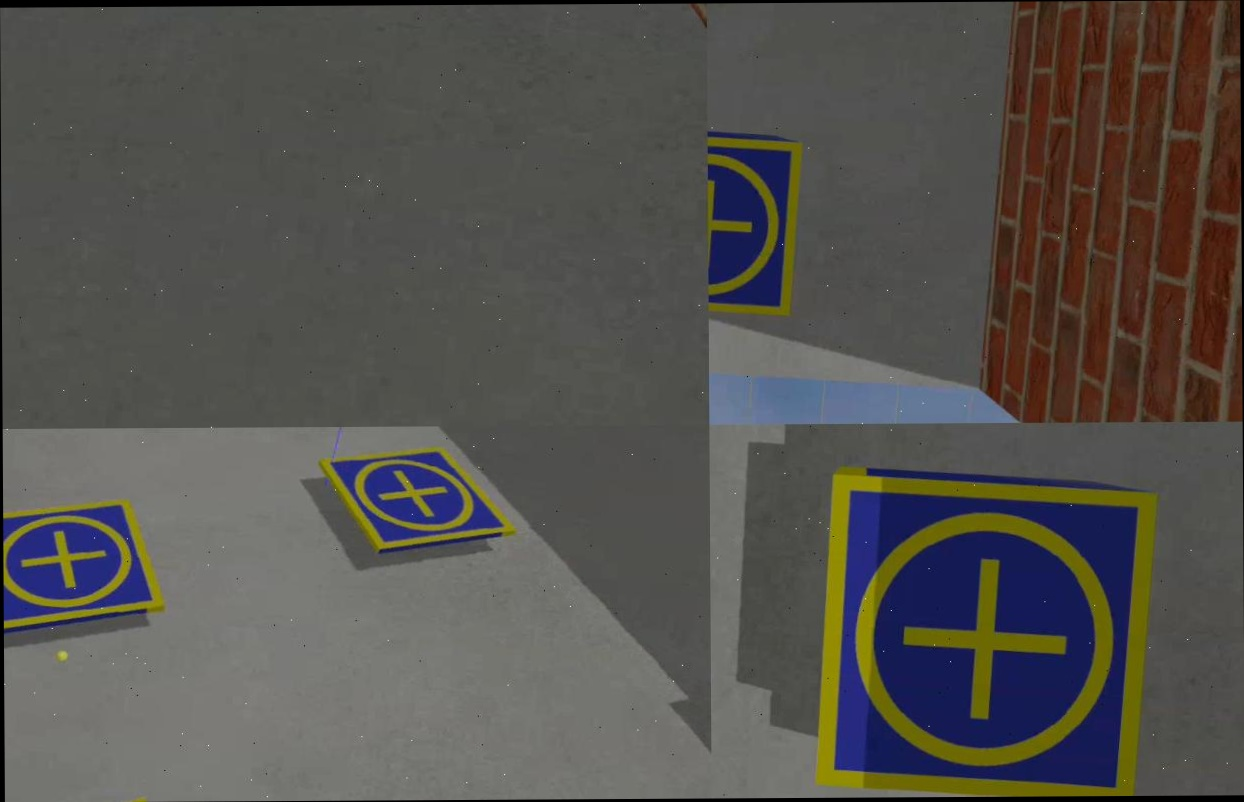small_base: (806, 468, 1161, 797), (310, 435, 526, 573), (3, 484, 175, 652), (708, 125, 806, 323)
